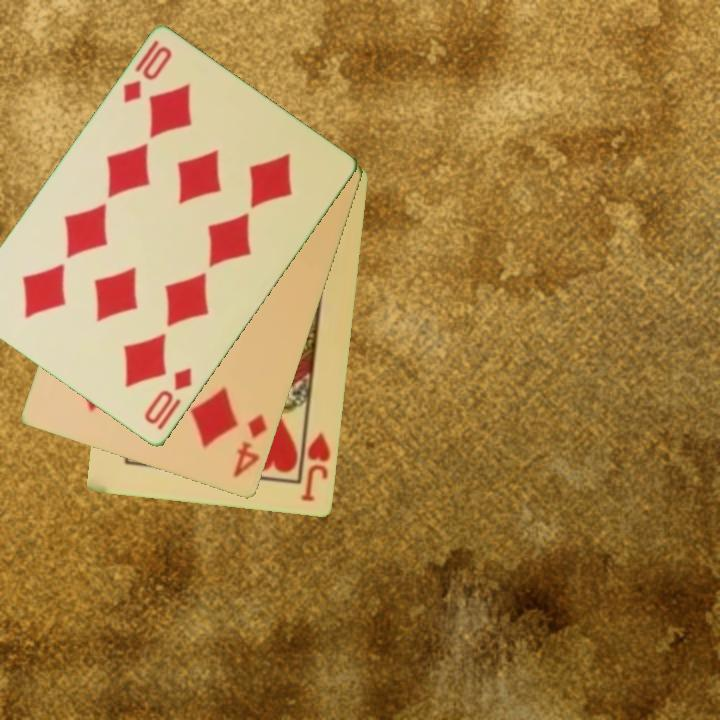10d: (119, 43, 175, 107), (140, 364, 195, 428)
4d: (230, 411, 271, 481)
Jh: (298, 429, 334, 505)
